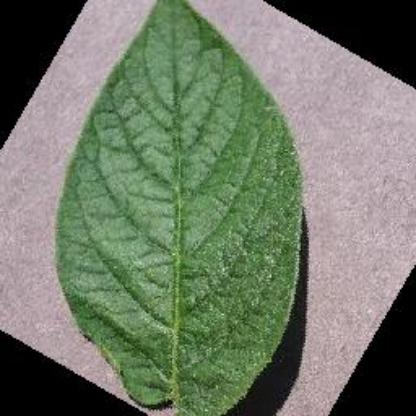Healthy-plant: (48, 0, 322, 416)
